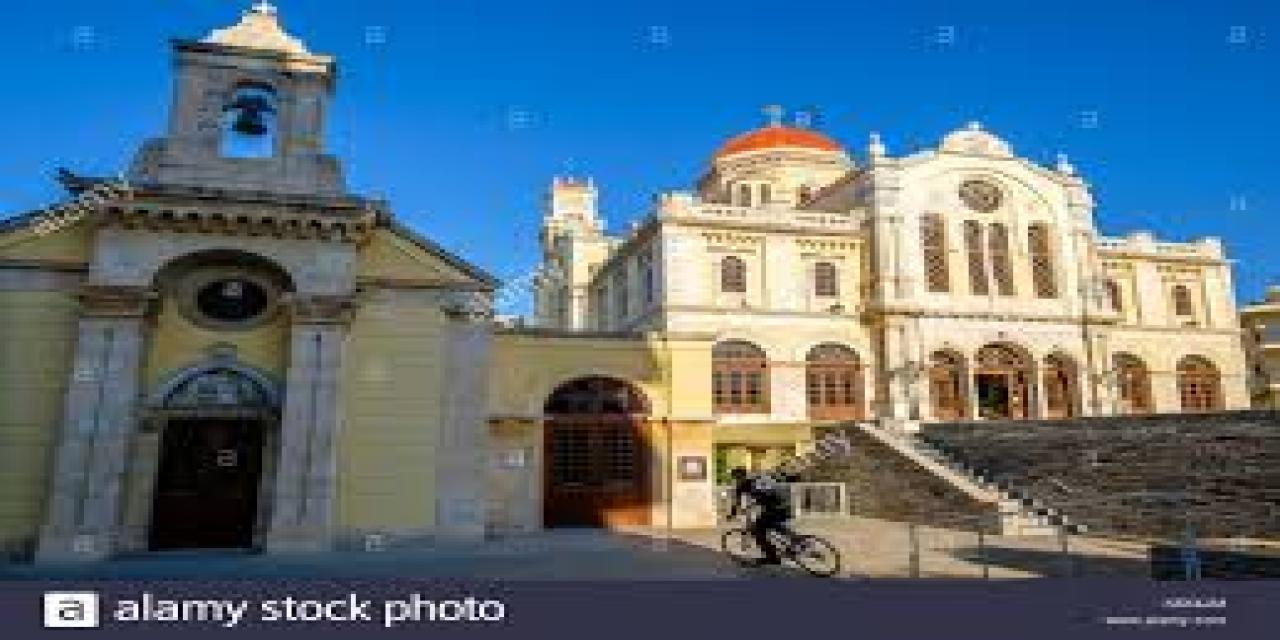Agios Minas: (1, 1, 1266, 547)
